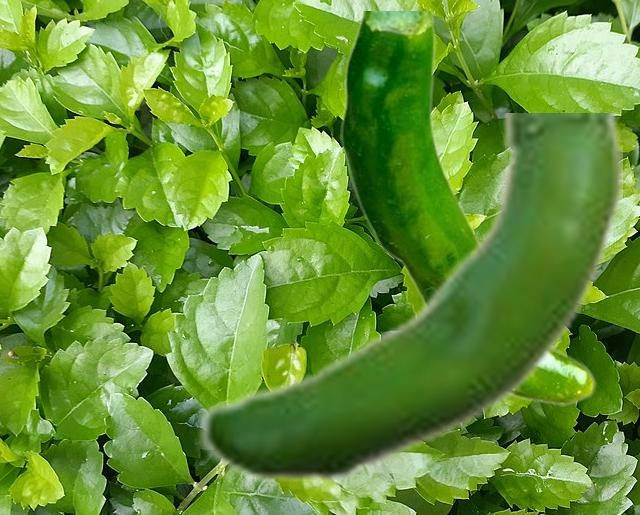green_chili: (196, 113, 621, 486), (340, 11, 595, 405)
